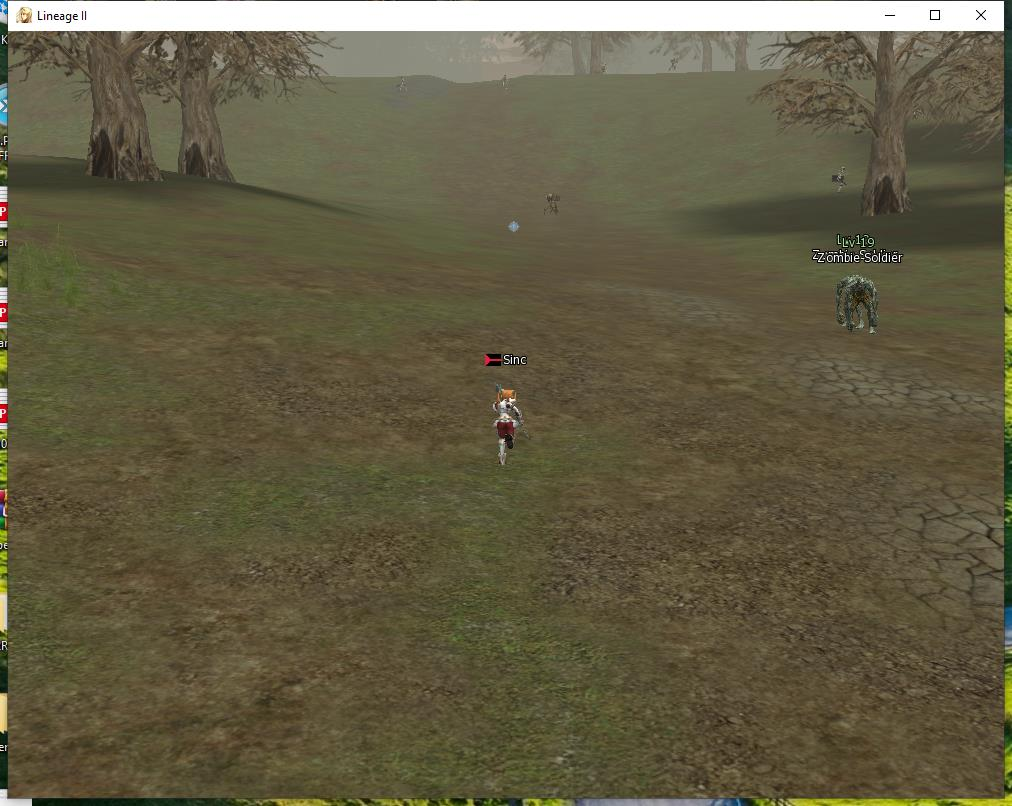monster: (822, 225, 887, 333), (538, 184, 569, 217), (832, 169, 851, 197)
